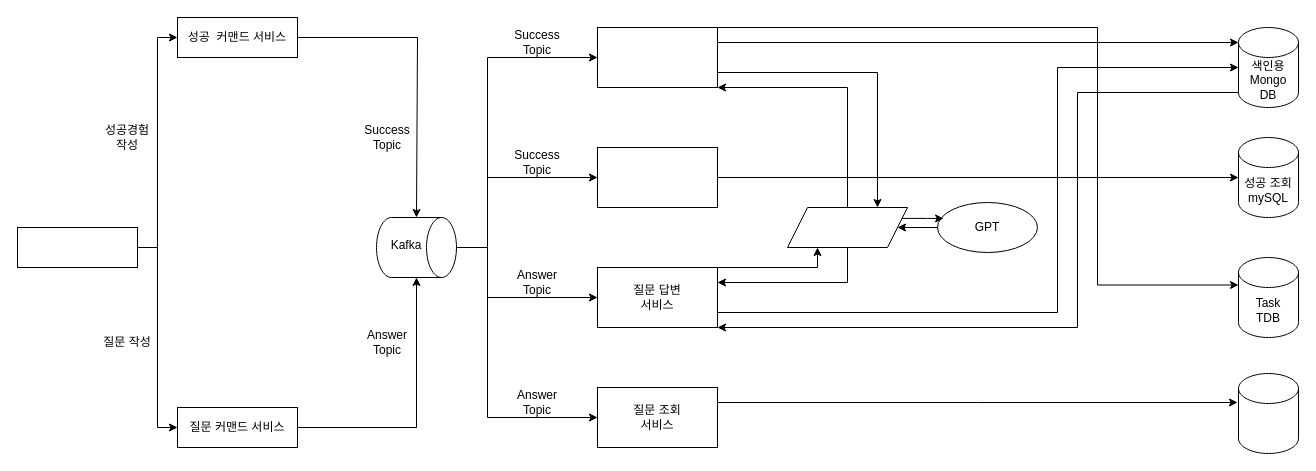
This 1316x471 diagram has some shape labels left out. The box of each missing label's shape, as (x1, y1, x2, y2) in pixels:
성공 경험 조회 서비스: (596, 146, 718, 208)
성공 경험 태스크 등록 서비스: (596, 26, 718, 88)
질문조회 mySQL: (1238, 372, 1298, 454)
클라이언트: (16, 226, 138, 268)
파싱 서비스: (786, 206, 908, 248)
